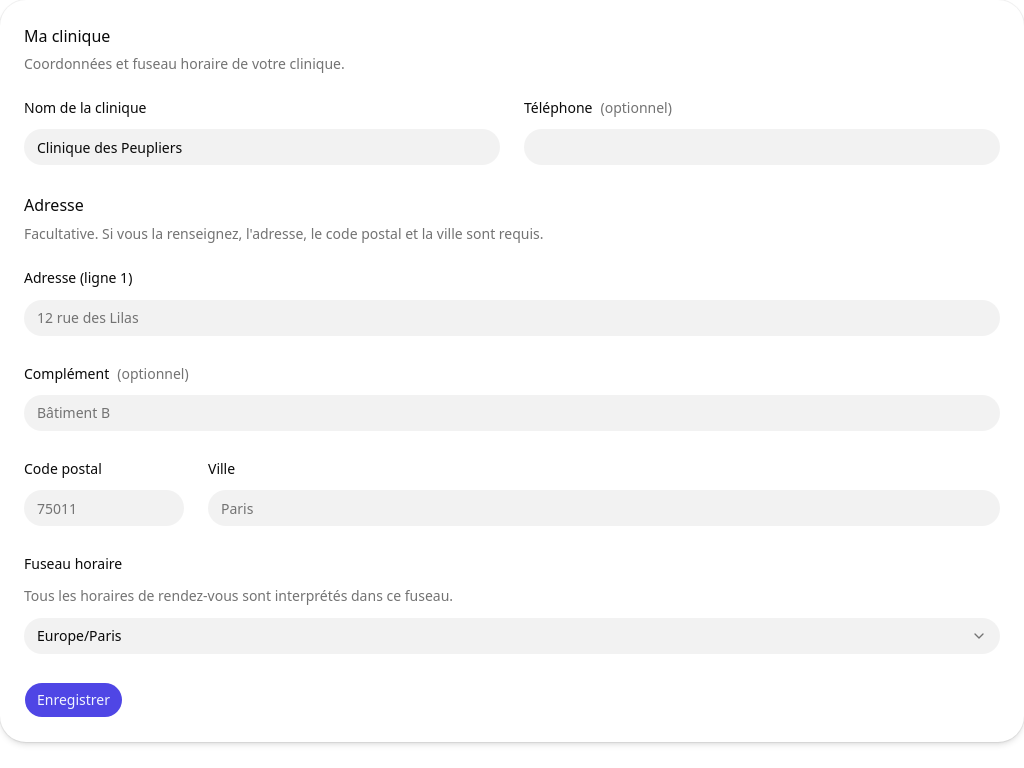
Test: ClinicForm — validation locale › réclame l'adresse entière dès qu'un champ est rempli
The image size is (1024, 768).
Type "Bâtiment C" into the field labelled "Complément (optionnel)".
click(512, 413); type("Bâtiment C")  # box [24,395,1000,431]
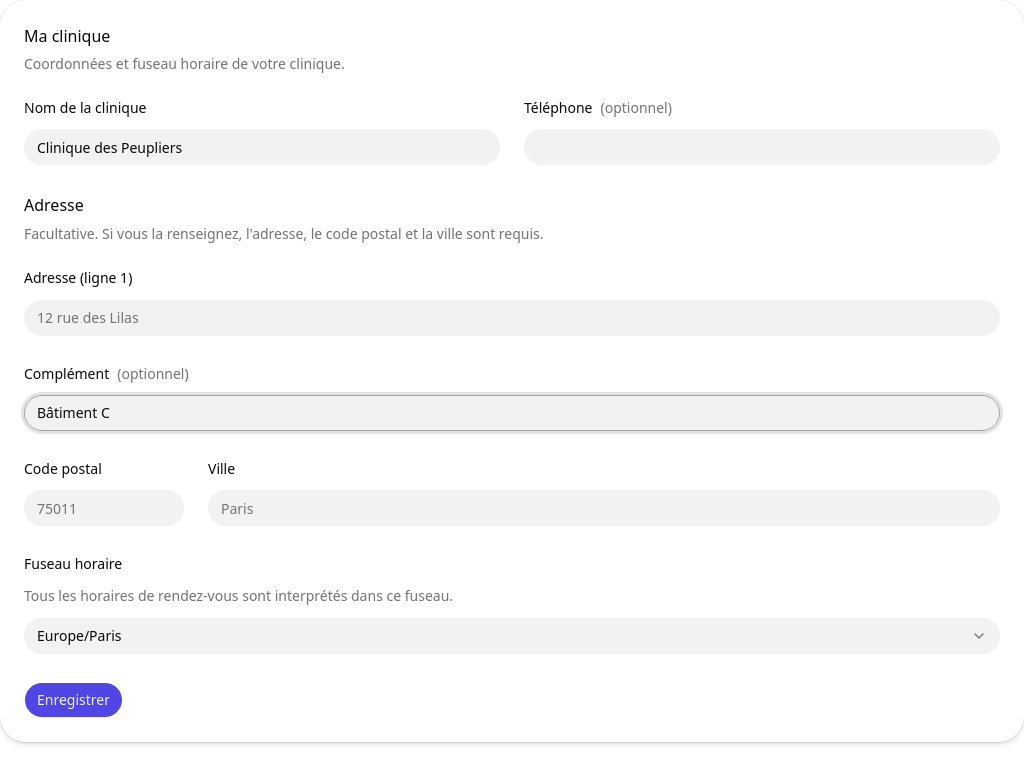
Click the button "Enregistrer".
click(74, 700)  # box [24,682,123,718]
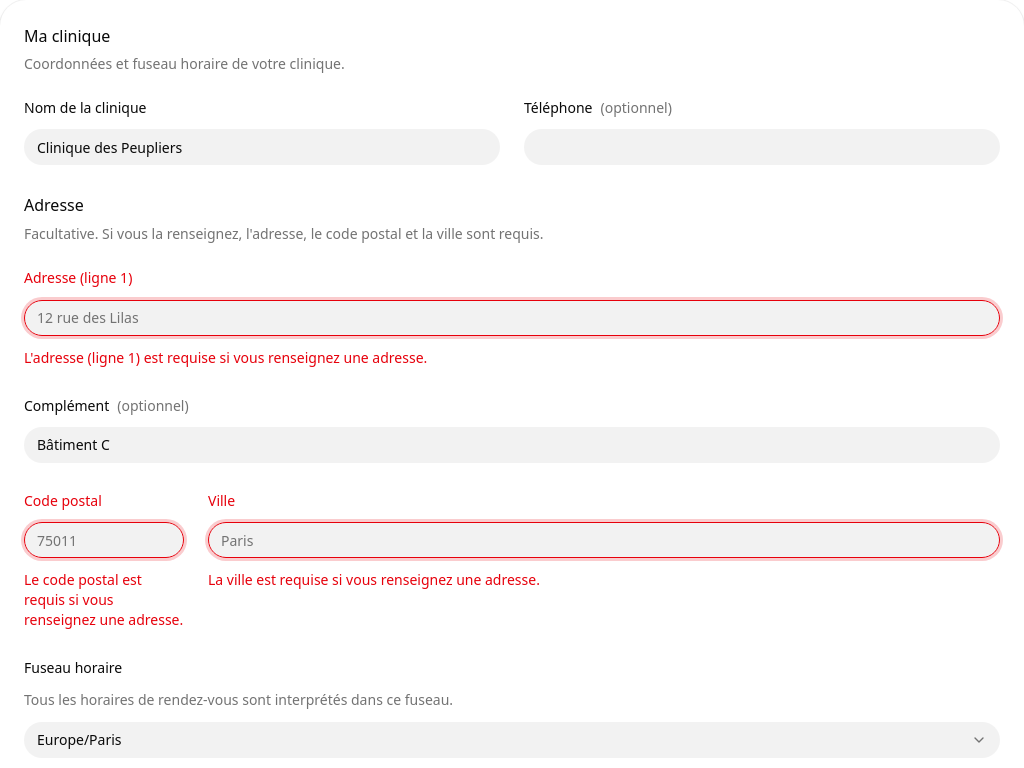
Now the text "L'adresse (ligne 1) est requise si vous renseignez une adresse." is shown, box [24,348,427,366]
